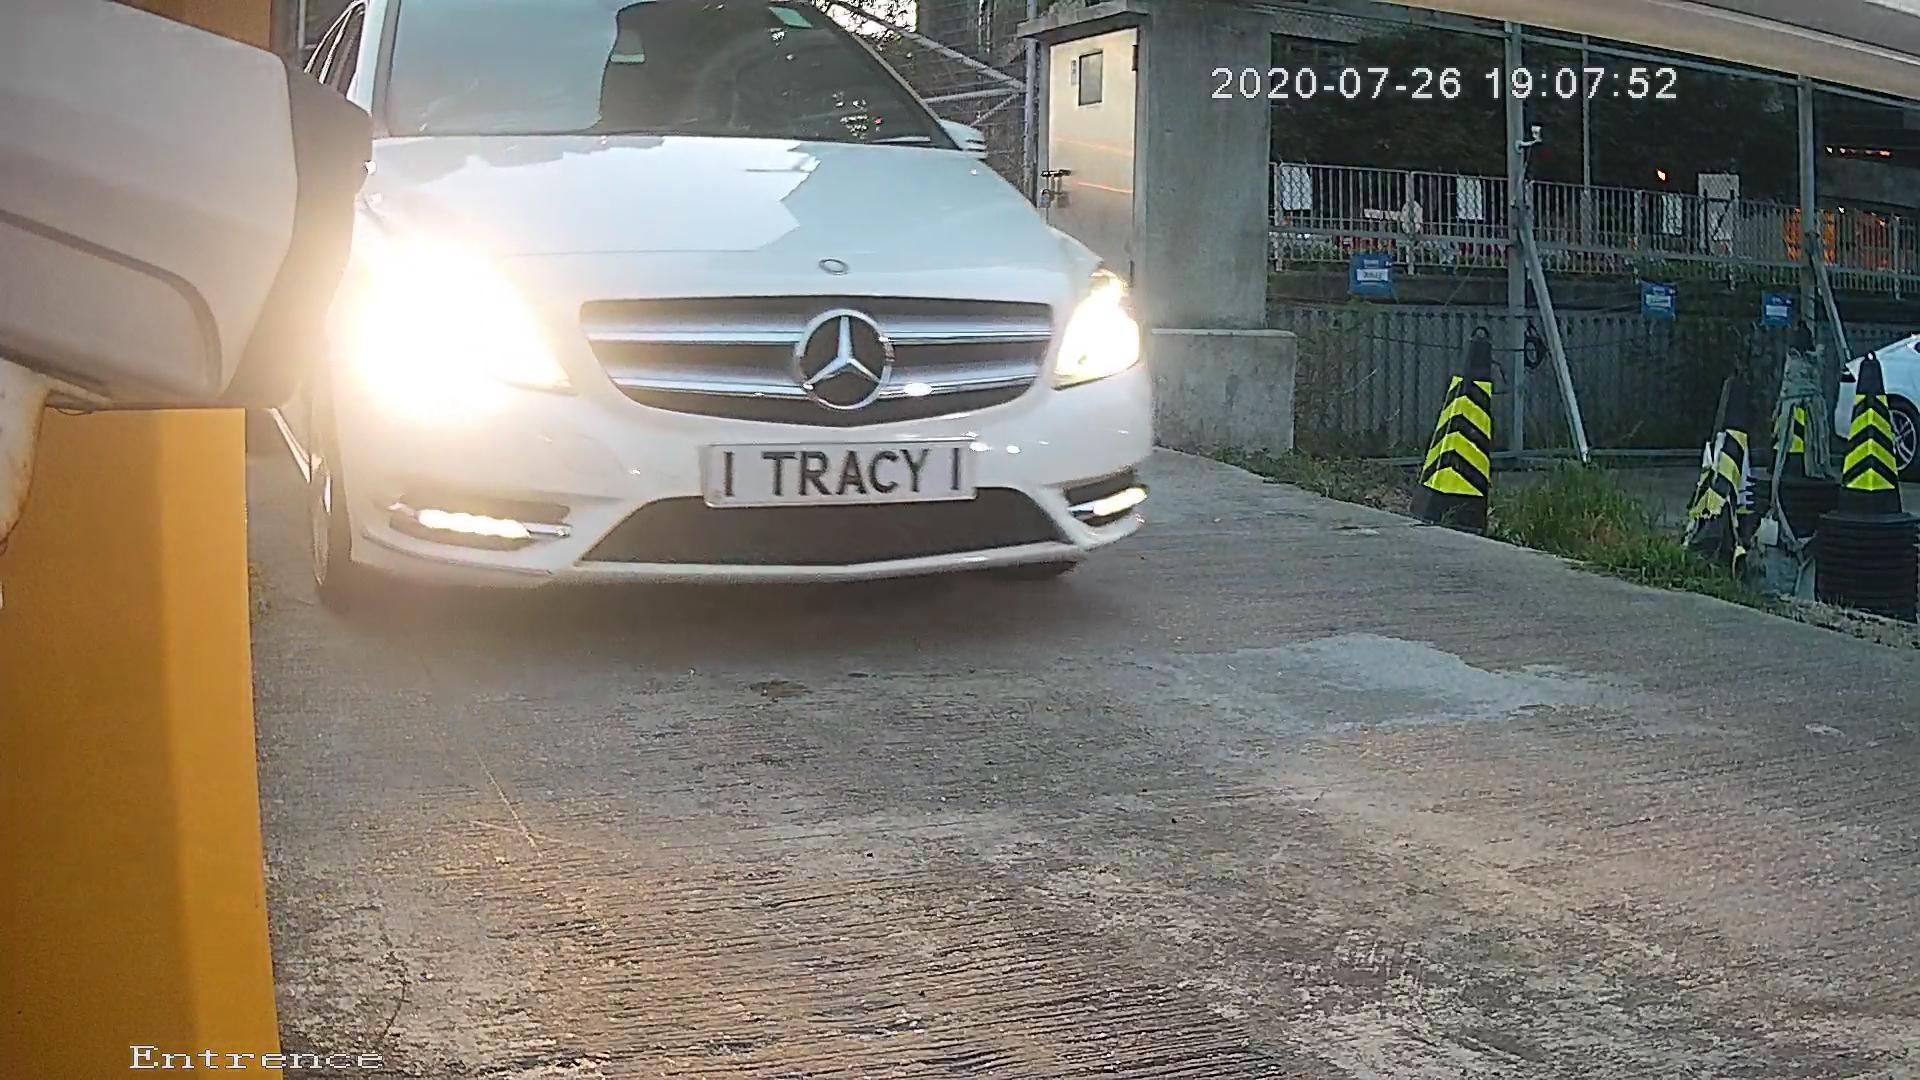License Plate: (669, 420, 995, 516)
